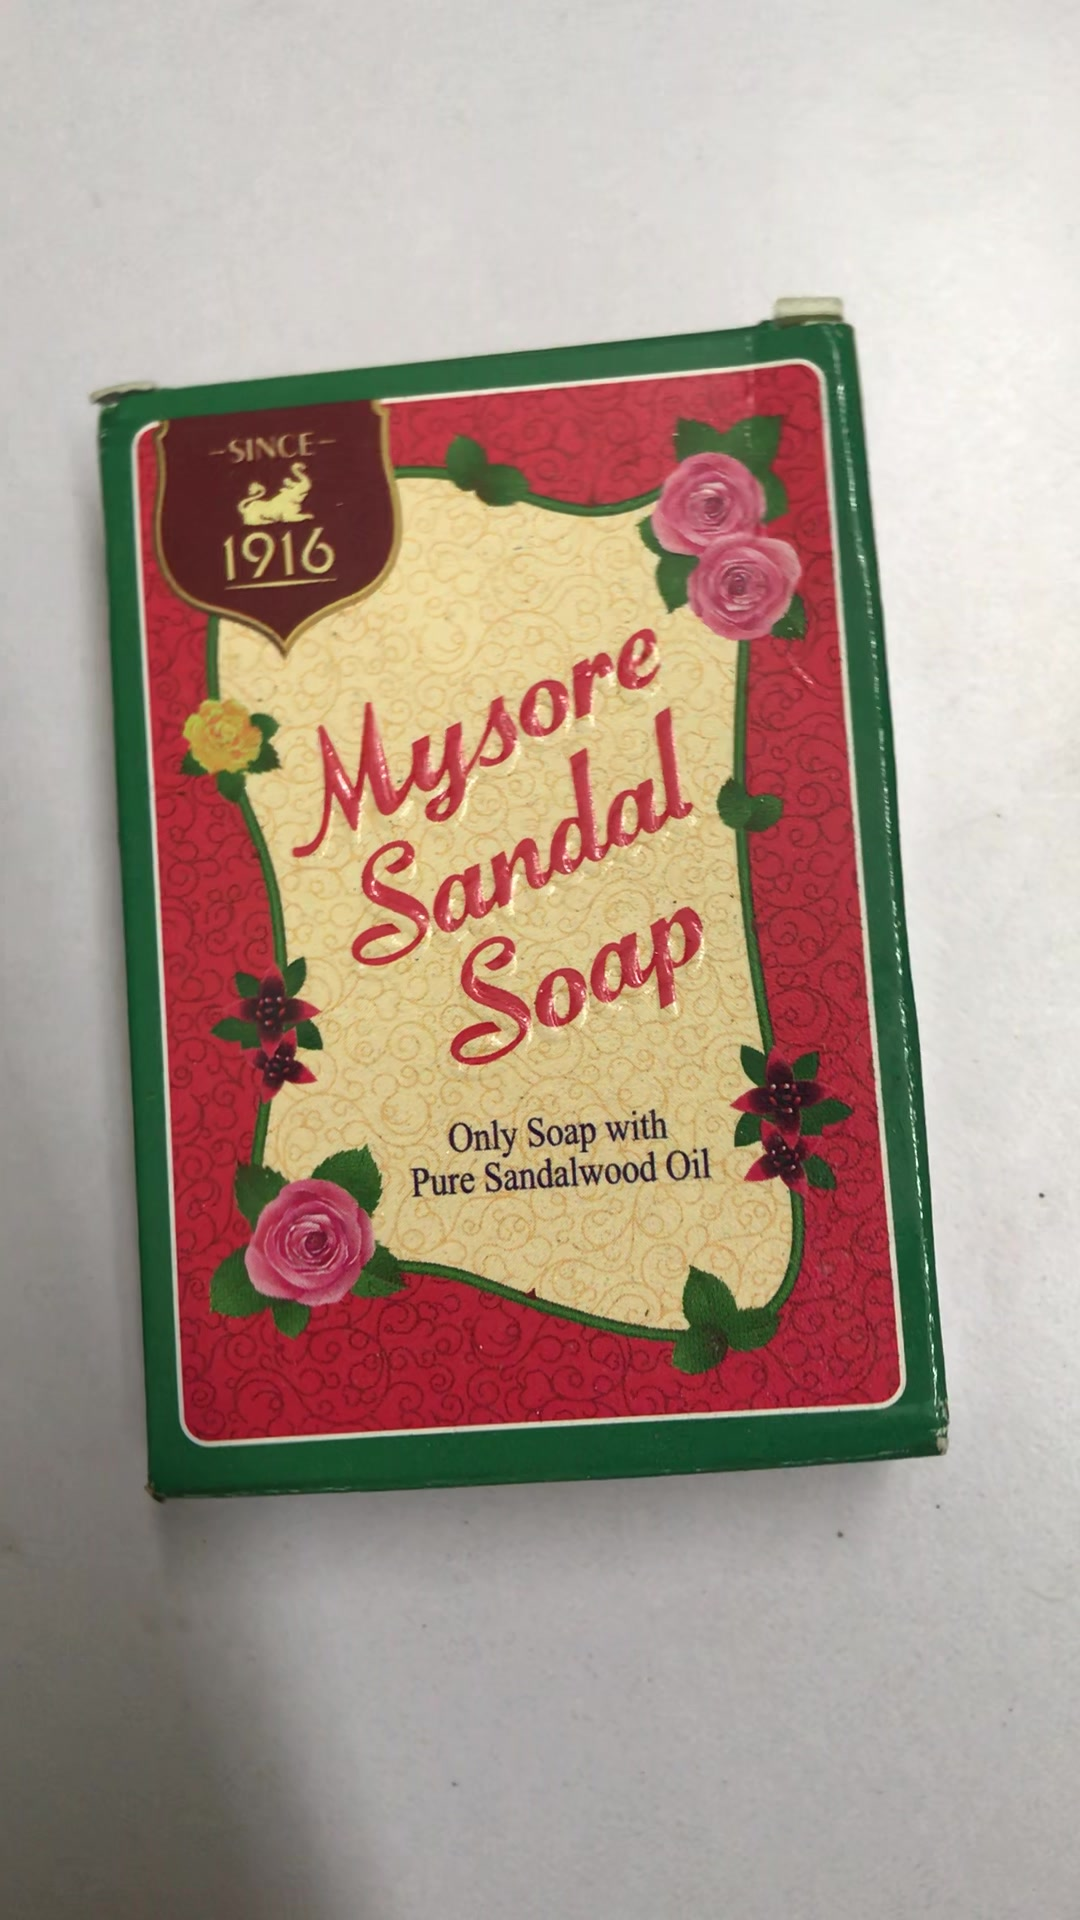mysore sandal soap: (95, 331, 949, 1494)
